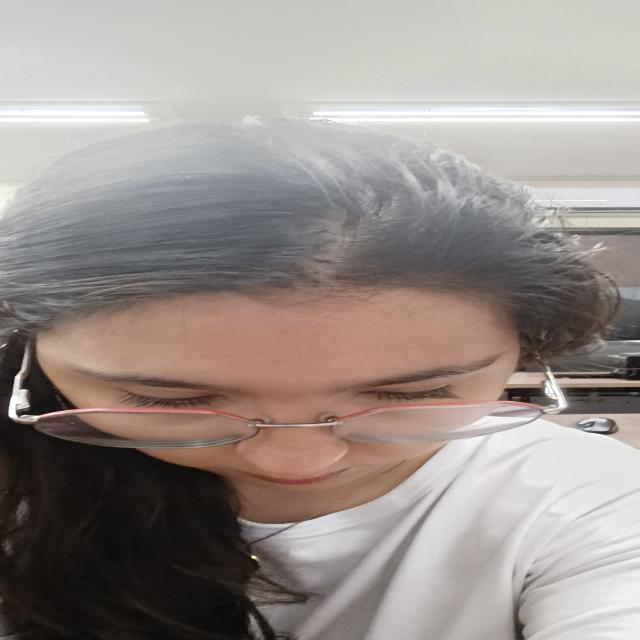sem_oculos: (8, 347, 567, 450)
